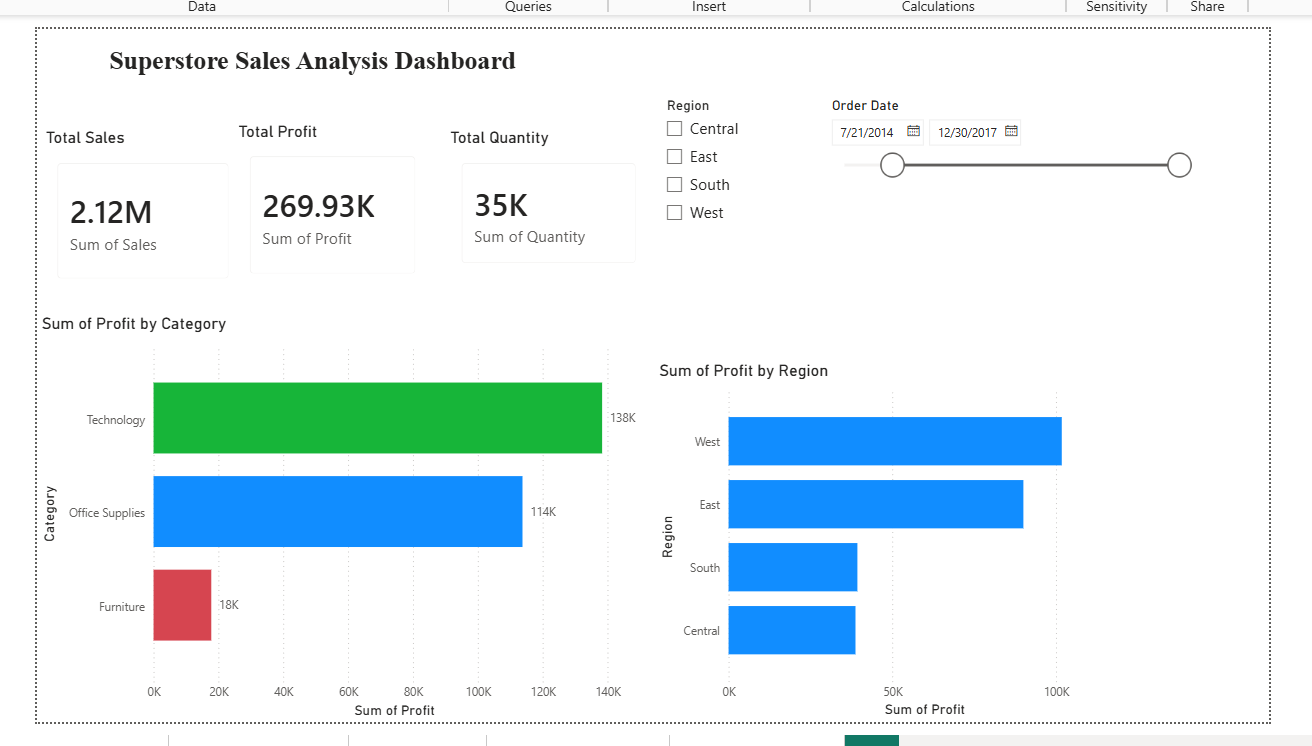

The page's visual inventory and layout, read from the dashboard file:
{"tool":"powerbi","page":{"name":"Executive Summary","canvas":[1280,720],"ordinal":0},"visuals":[{"type":"barChart","fields":{"Category":["Sample - Superstore.Category"],"Y":["Sum(Sample - Superstore.Profit)"]},"box":[0,296.1,641,424.6],"z":0},{"type":"cardVisual","title":"Total Sales","fields":{"Data":["Sum(Sample - Superstore.Sales)"]},"box":[4.2,103.3,212.3,174.6],"z":1000},{"type":"barChart","fields":{"Category":["Sample - Superstore.Region"],"Y":["Sum(Sample - Superstore.Profit)"]},"box":[641,345,504.2,375.7],"z":2000},{"type":"cardVisual","title":"Total Profit","fields":{"Data":["Sum(Sample - Superstore.Profit)"]},"box":[204.7,95.1,206.3,175.7],"z":3000},{"type":"cardVisual","title":"Total Quantity","fields":{"Data":["Sum(Sample - Superstore.Quantity)"]},"box":[423.9,103.2,216,158],"z":4000},{"type":"textbox","box":[69.3,11.3,539.9,54.8],"z":5000},{"type":"slicer","fields":{"Values":["Sample - Superstore.Region"]},"box":[641.5,66.1,170.8,230.5],"z":6000},{"type":"slicer","fields":{"Values":["Sample - Superstore.Order Date"]},"box":[812.3,66.1,394.9,257.9],"z":7000}]}

Visuals, with their boxes on the page's 1280x720 design canvas (x1, y1, x2, y2). These are canvas units, not pixel positions in the 1312x746 screenshot, which may show the page scaled, cropped or inside an application window:
barChart - Sample - Superstore.Category x Sum(Sample - Superstore.Profit): select_region(0, 296, 641, 721)
"Total Sales" cardVisual: select_region(4, 103, 216, 278)
barChart - Sample - Superstore.Region x Sum(Sample - Superstore.Profit): select_region(641, 345, 1145, 721)
"Total Profit" cardVisual: select_region(205, 95, 411, 271)
"Total Quantity" cardVisual: select_region(424, 103, 640, 261)
textbox: select_region(69, 11, 609, 66)
slicer - Sample - Superstore.Region: select_region(642, 66, 812, 297)
slicer - Sample - Superstore.Order Date: select_region(812, 66, 1207, 324)
